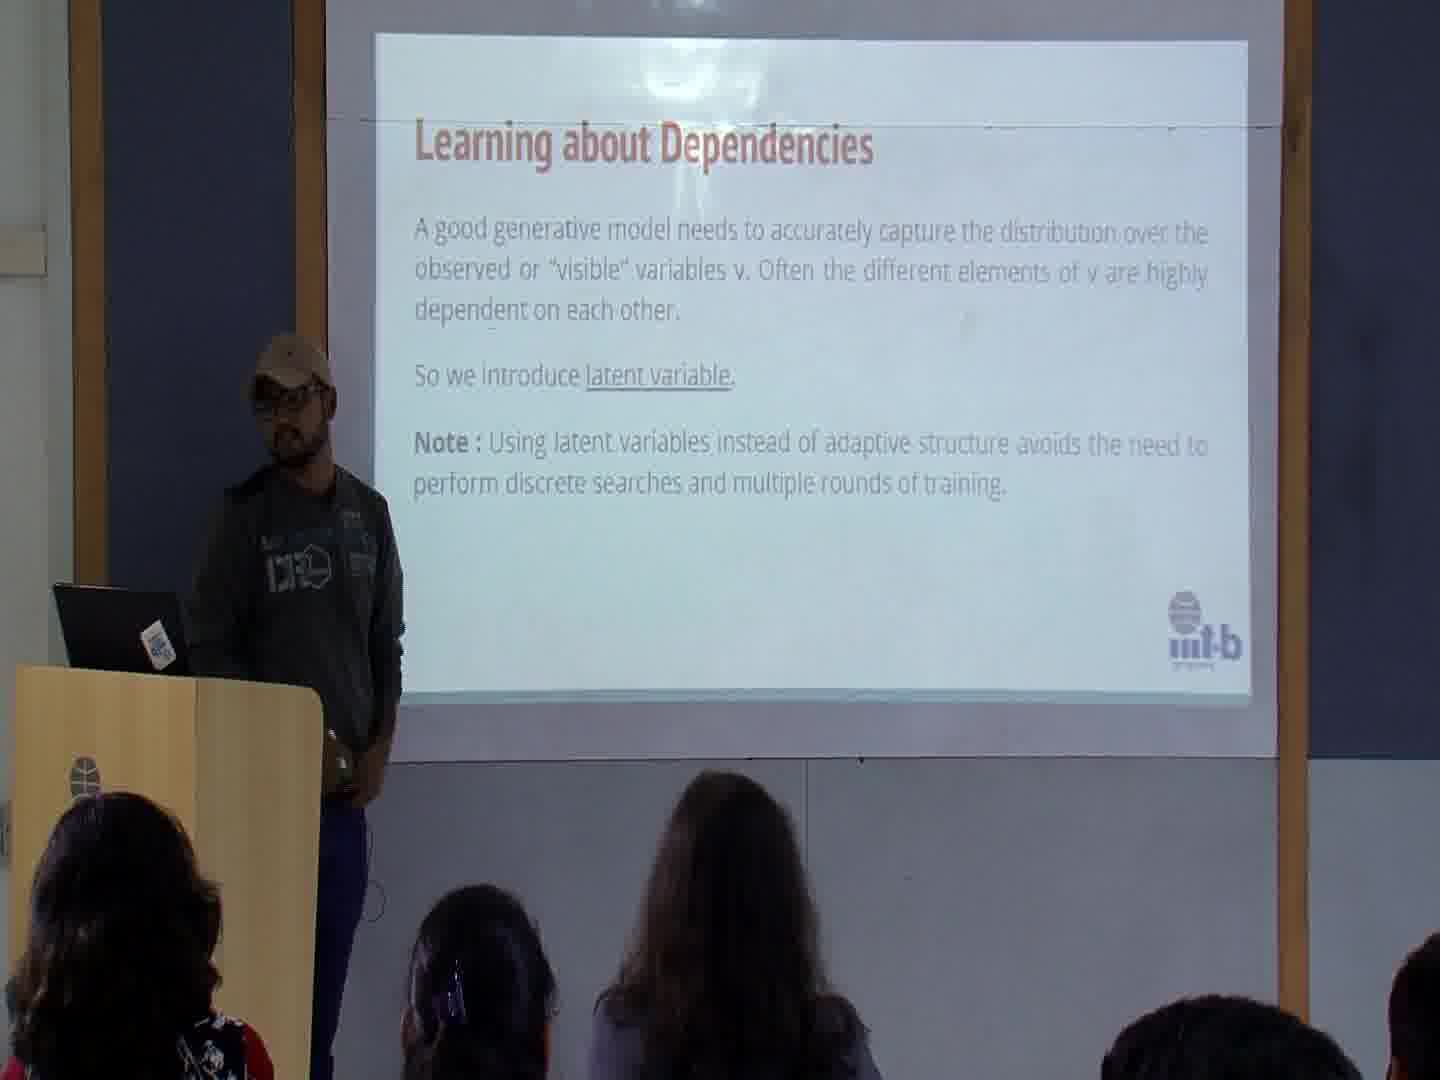slide: (375, 34, 1251, 706)
